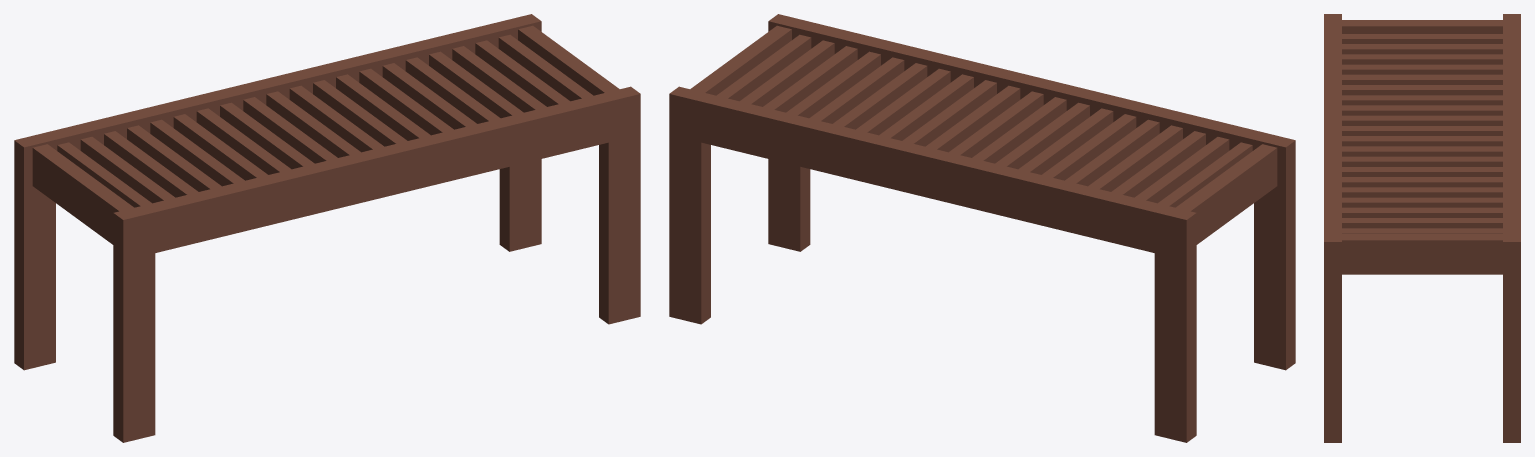
The model's file is Banco Madeira.fbx.
3 renders of one model, left to right at view 1: azimuth 30°, elevation 25°; view 2: azimuth 150°, elevation 25°; view 3: azimuth 270°, elevation 25°, orthographic. The views are drawn at different scales.
Visible parts, largest first — view 1: bancoMadeira.004; view 2: bancoMadeira.004; view 3: bancoMadeira.004.
Boxes of the visible parts, x1,y1,x2,y2 form: bancoMadeira.004: [14, 14, 640, 442]; bancoMadeira.004: [669, 14, 1295, 442]; bancoMadeira.004: [1324, 14, 1520, 442].
Bounding box in the file's own units: 138 × 56.69 × 50.28.
